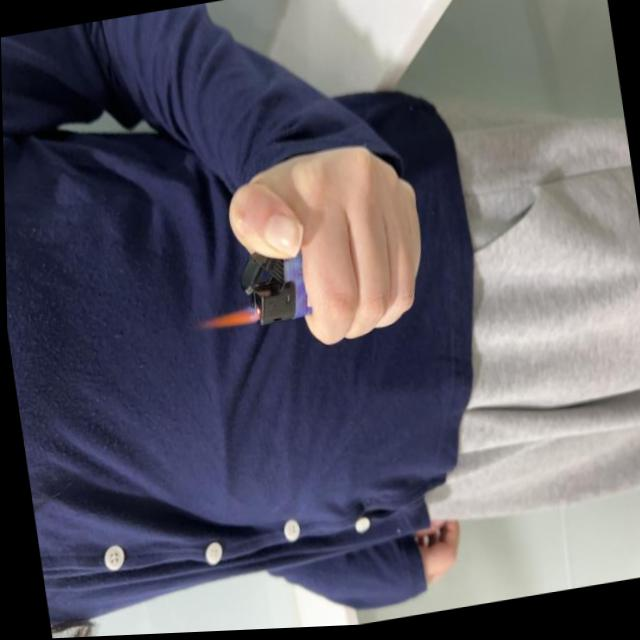Fire: (194, 304, 258, 335)
